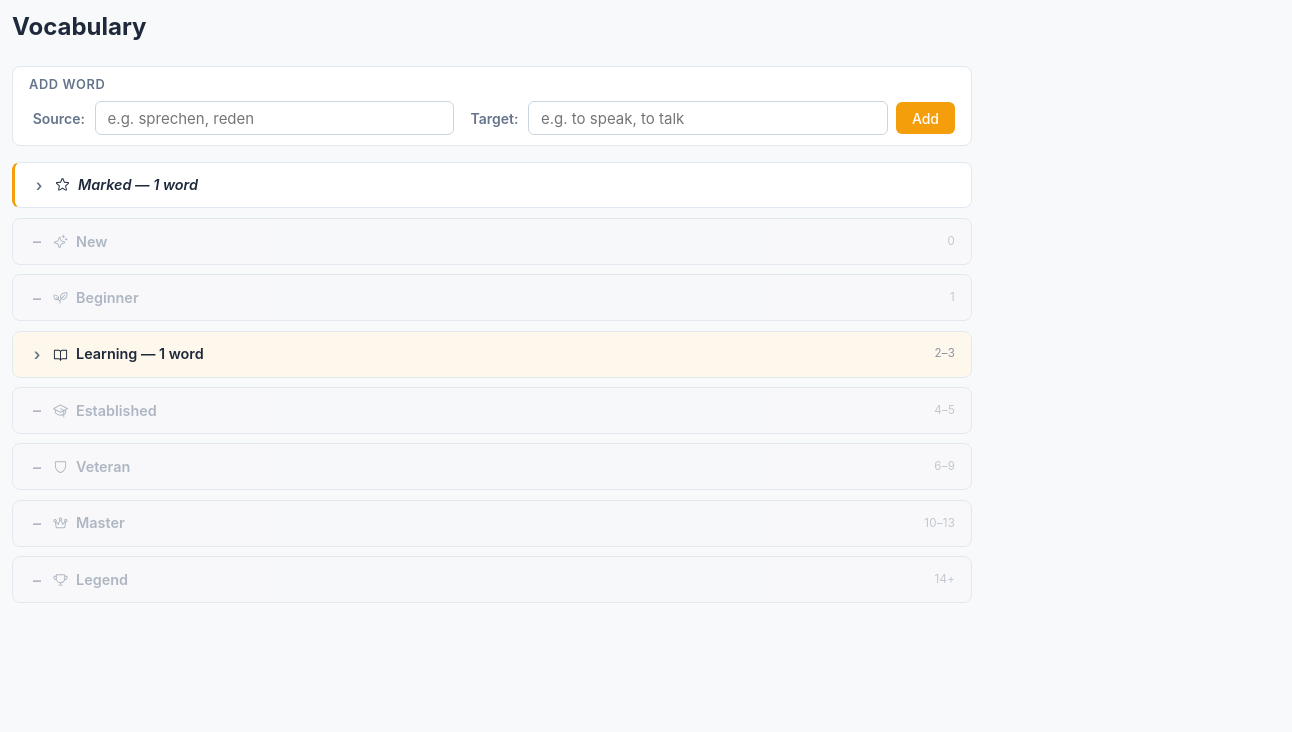
Scenario: Marked section › shows the Bucket column in the Marked section
Click the heading "Marked — 1 word": [116, 185] box top-left (15, 163), bottom-right (971, 207)
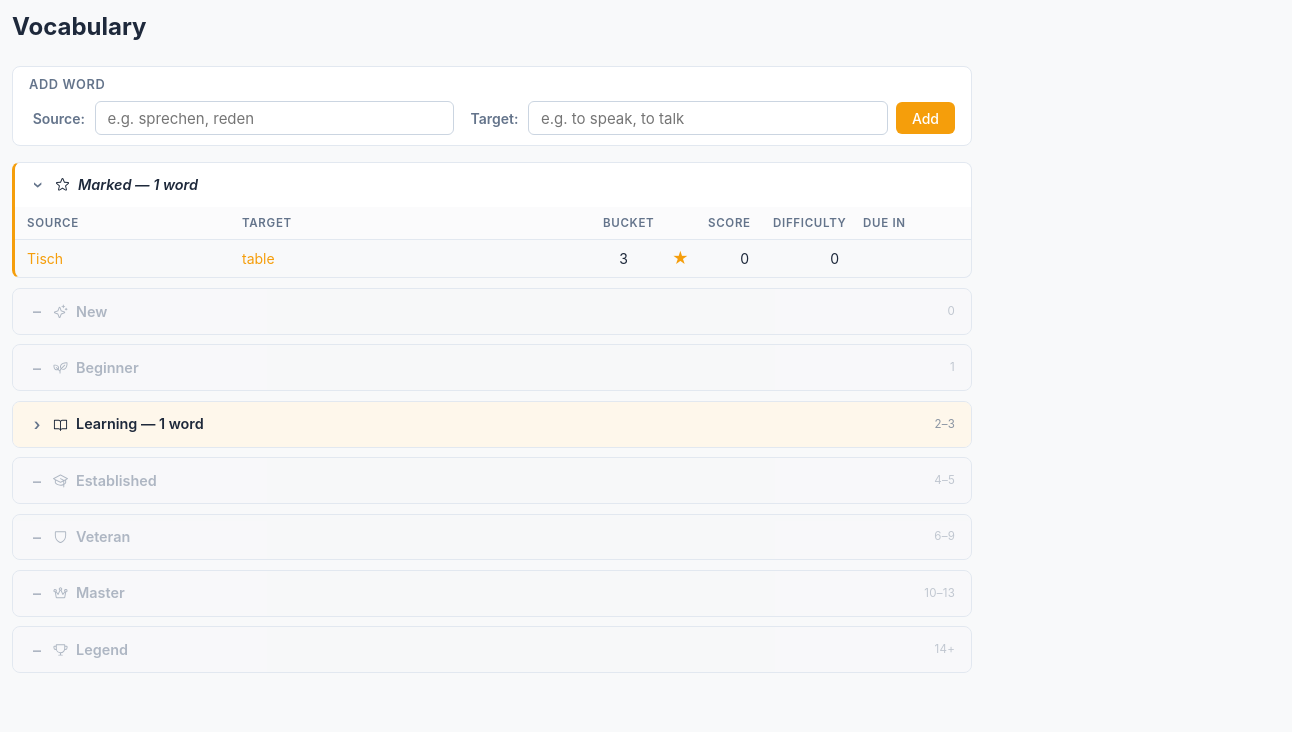
Expected: the column heading "Bucket" is shown, top-left (591, 207), bottom-right (656, 240)
